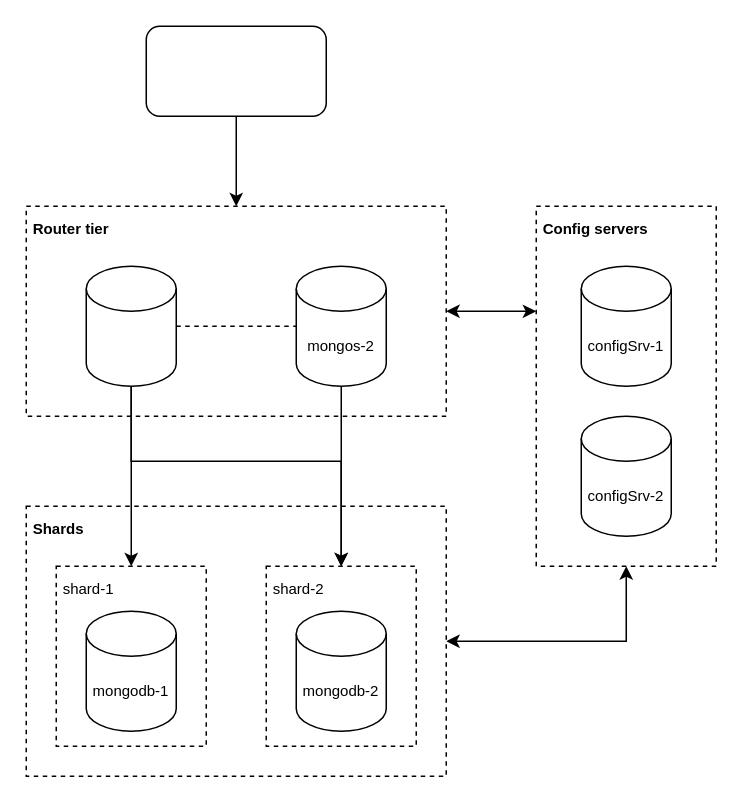
The diagram is 743 pixels wide and 803 high, and some of its shapes have lost their labels. Here are the shapes that lost their labels. From the top down, the box of each, then its label:
(145, 25, 326, 116): pymongo-api
(85, 265, 176, 386): mongos- 1
